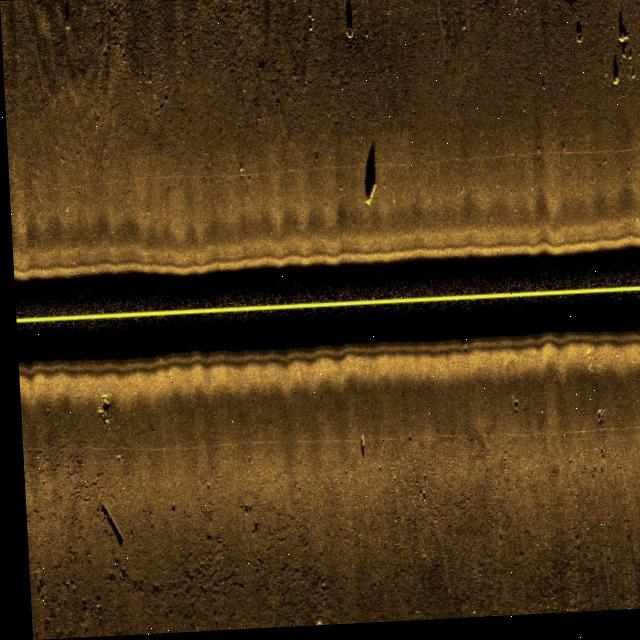mine: (357, 138, 384, 217), (351, 432, 366, 461)
other: (91, 495, 122, 552), (557, 0, 579, 6)
